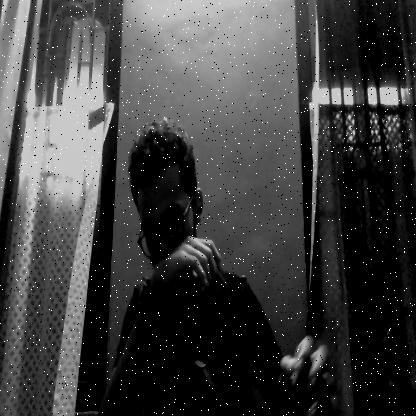Distracted: (130, 127, 206, 285)
